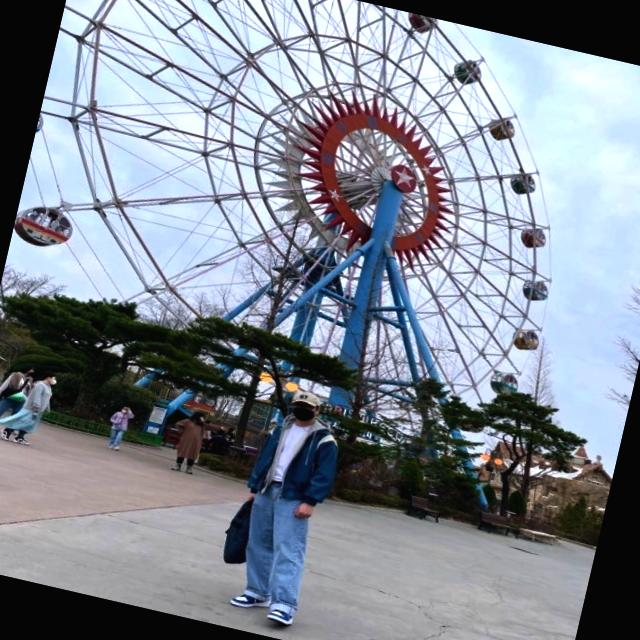denimpants: (230, 473, 325, 613)
jacket: (242, 410, 343, 508)
